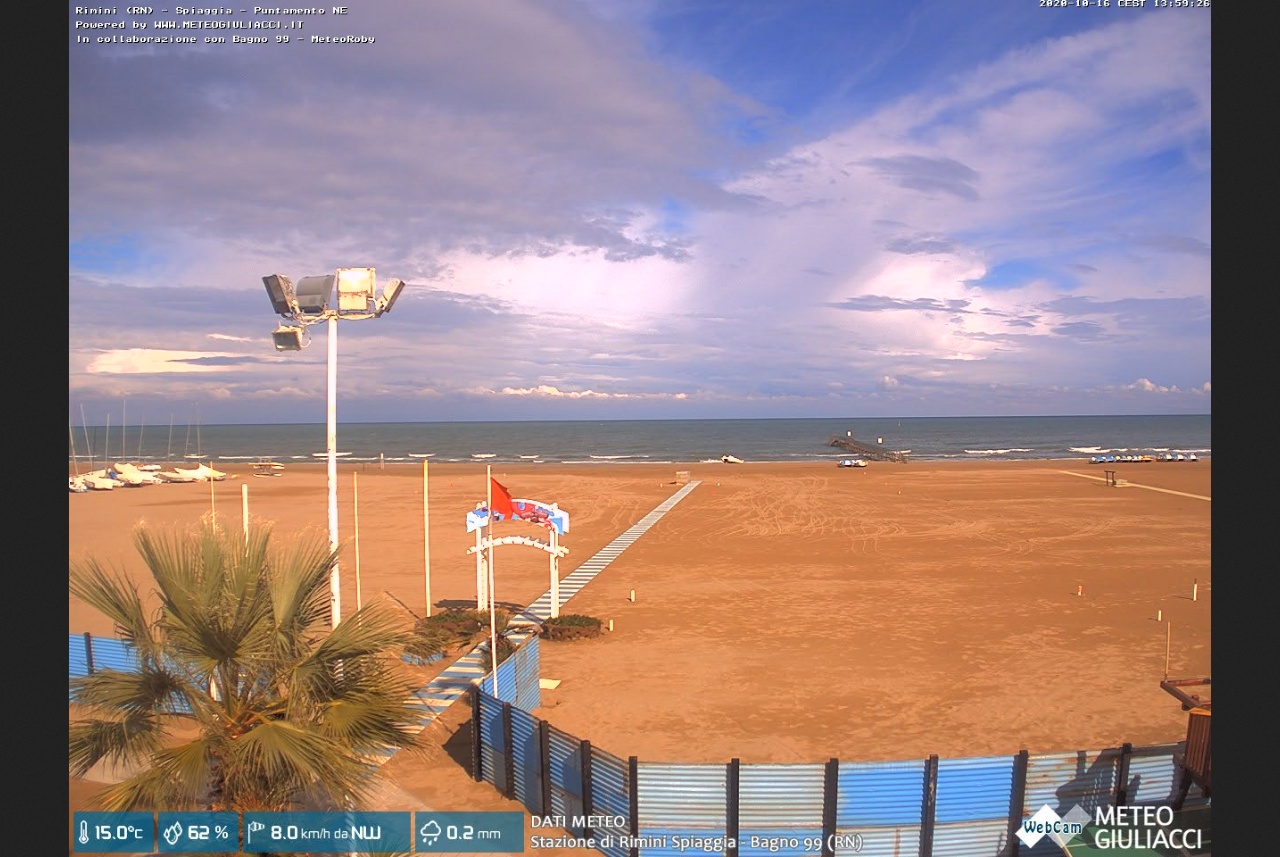maybe: (488, 476, 515, 522)
